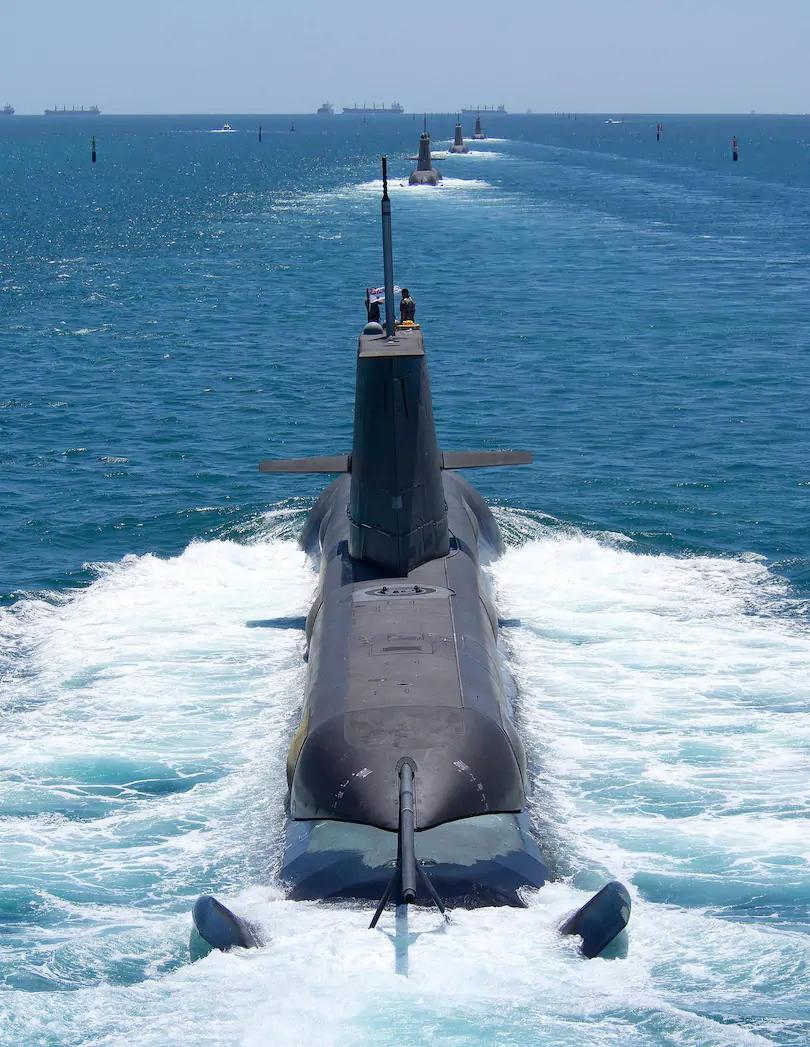Submarine: (110, 165, 738, 964)
